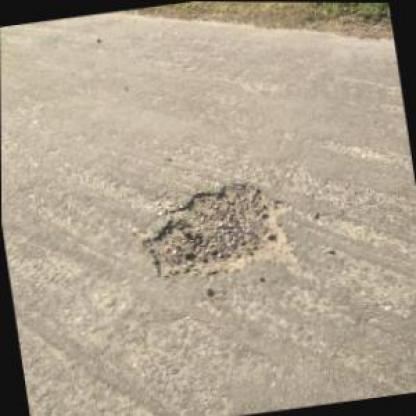pothole: (133, 174, 302, 284)
